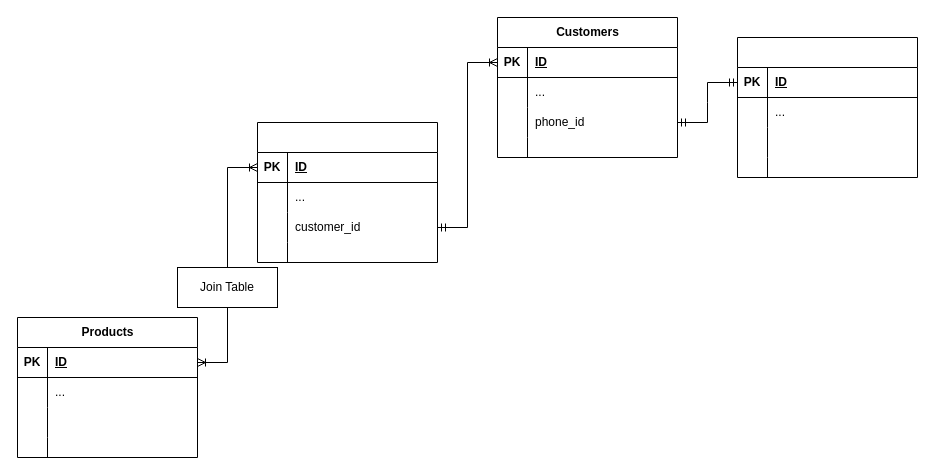
Some shapes in this 935 by 475 pixel diagram are drawn without their labels. Each missing label, with the box of its shape:
Orders: (256, 122, 438, 262)
Phones: (736, 36, 918, 178)
